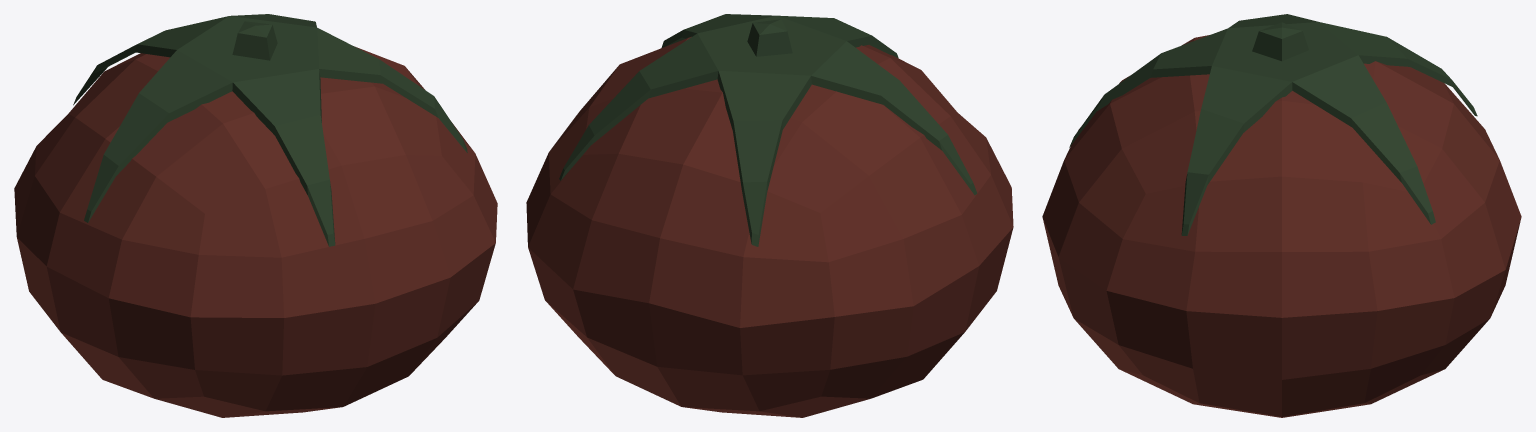
File: Tomato.glb
The picture shows the model from 3 angles, left to right: view 1: azimuth 30°, elevation 25°; view 2: azimuth 150°, elevation 25°; view 3: azimuth 270°, elevation 25°; orthographic projection.
Visible parts, largest first — view 1: Tomato; view 2: Tomato; view 3: Tomato.
Part boxes in pixels (x1=…): Tomato: x1=14, y1=14, x2=497, y2=417; Tomato: x1=526, y1=14, x2=1013, y2=417; Tomato: x1=1042, y1=14, x2=1521, y2=417.
Bounding box in the file's own units: 0.7525 × 0.6264 × 0.7525.
